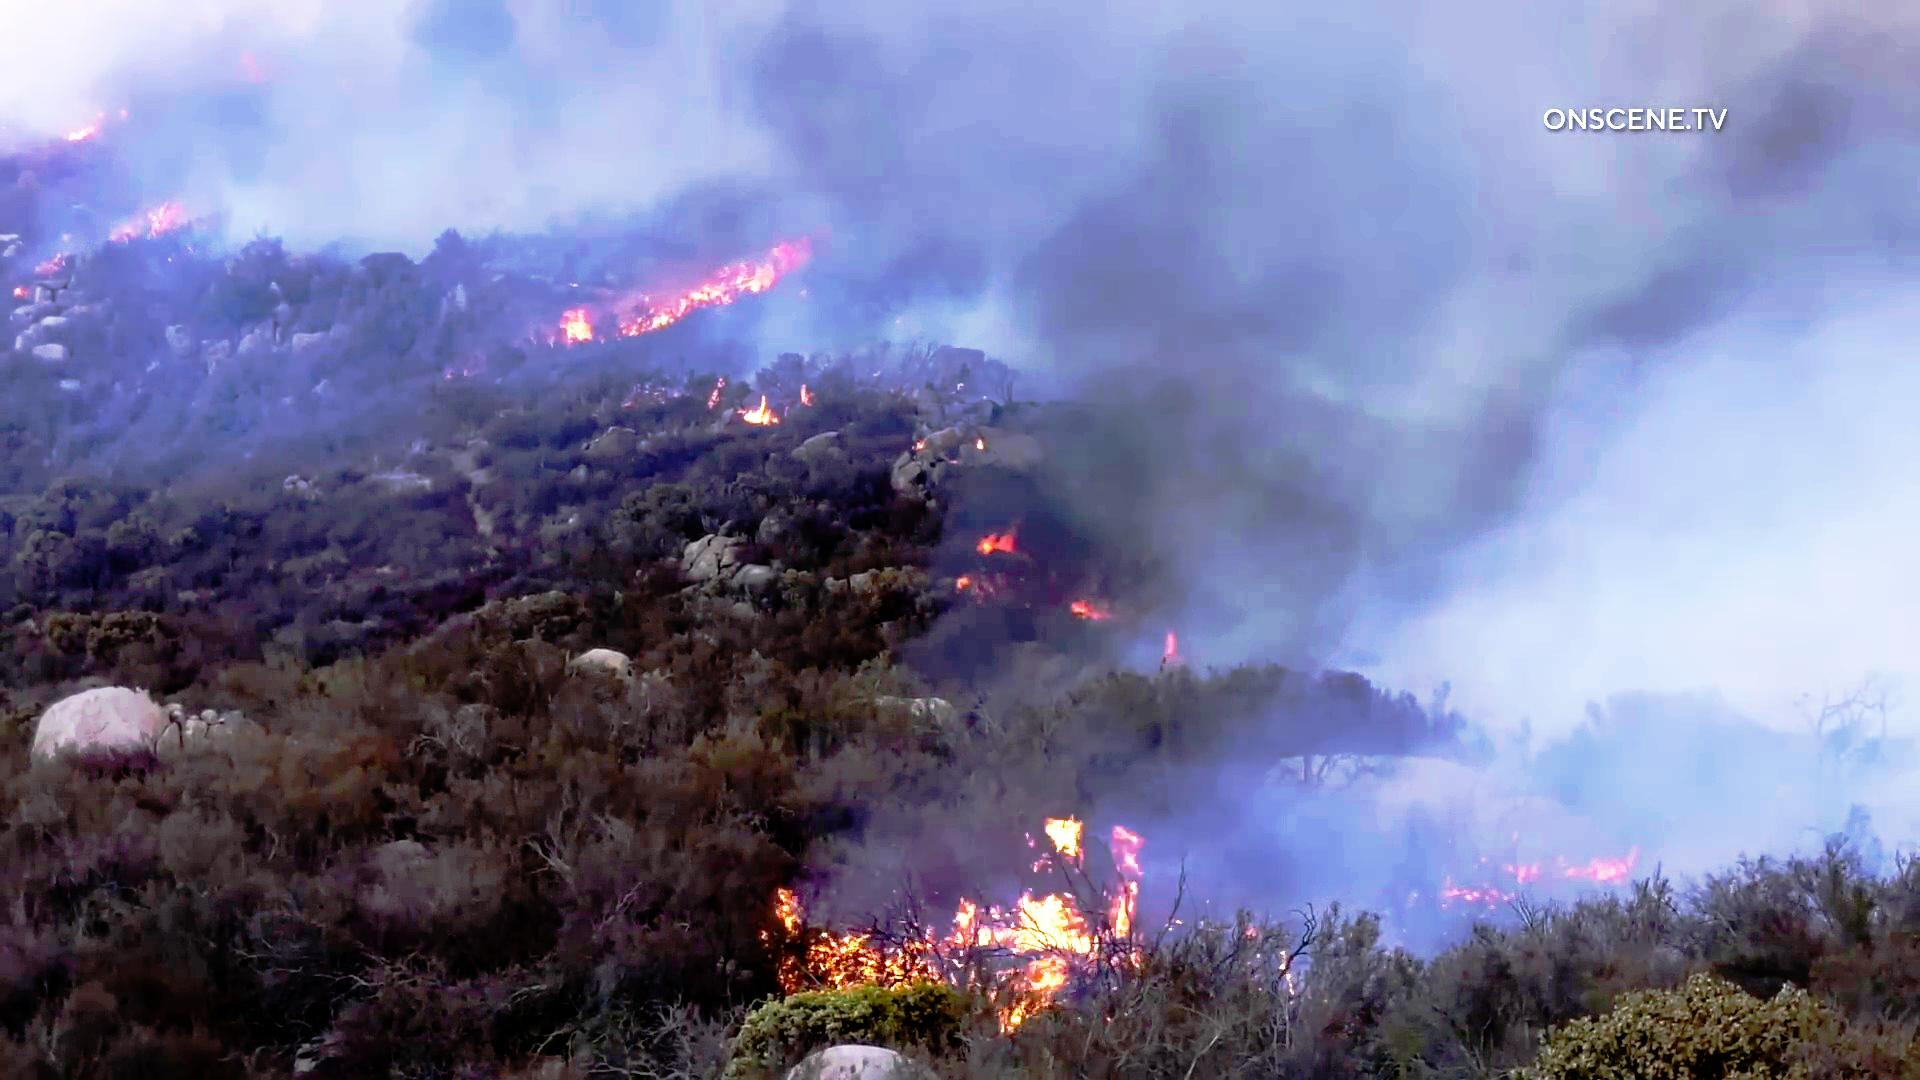fire: (756, 803, 1141, 994), (633, 207, 793, 315)
smoke: (1266, 219, 1565, 644)
